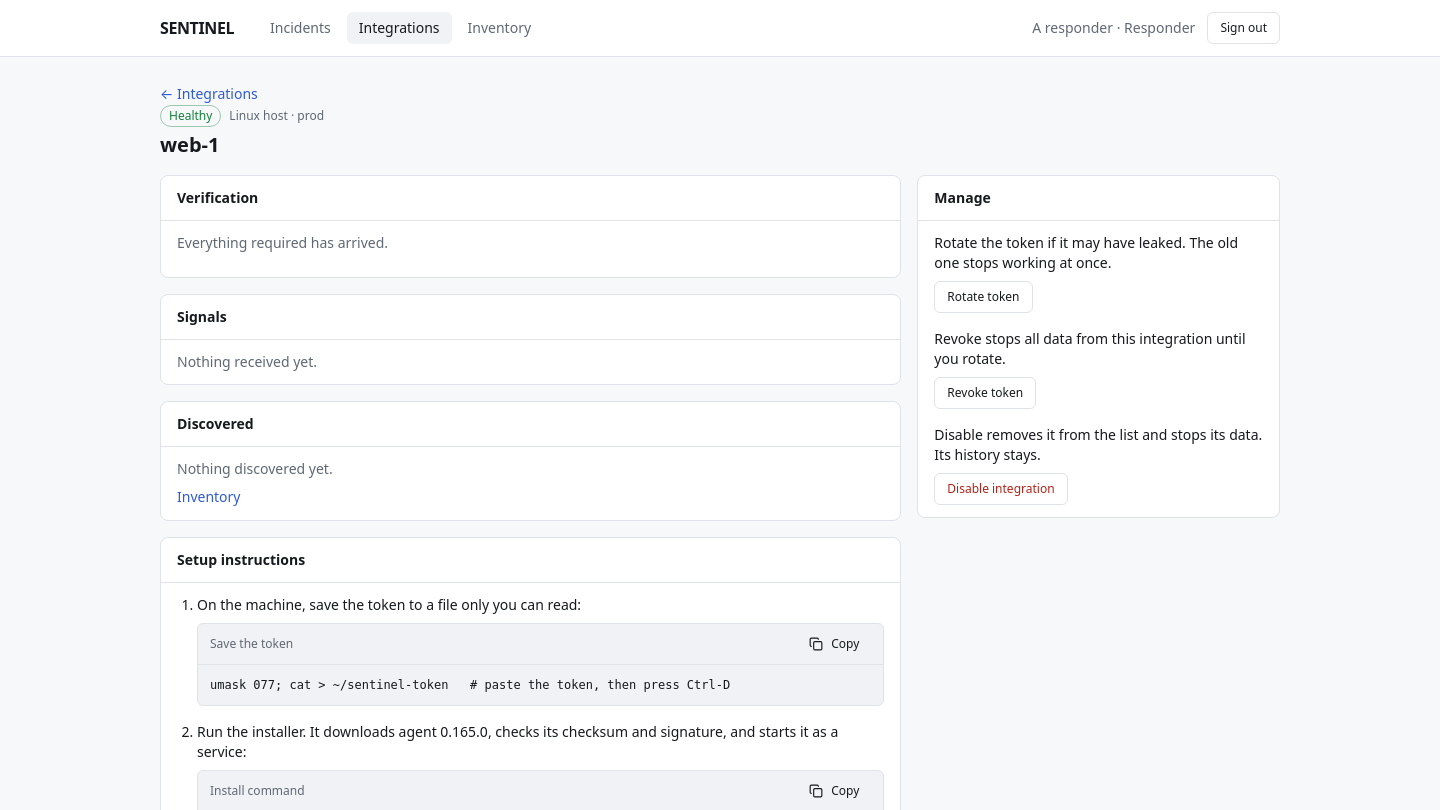
Test: integrations and inventory › rotating a token shows the new one once
Click the button "Rotate token". click: [983, 297]
box: [934, 281, 1032, 313]
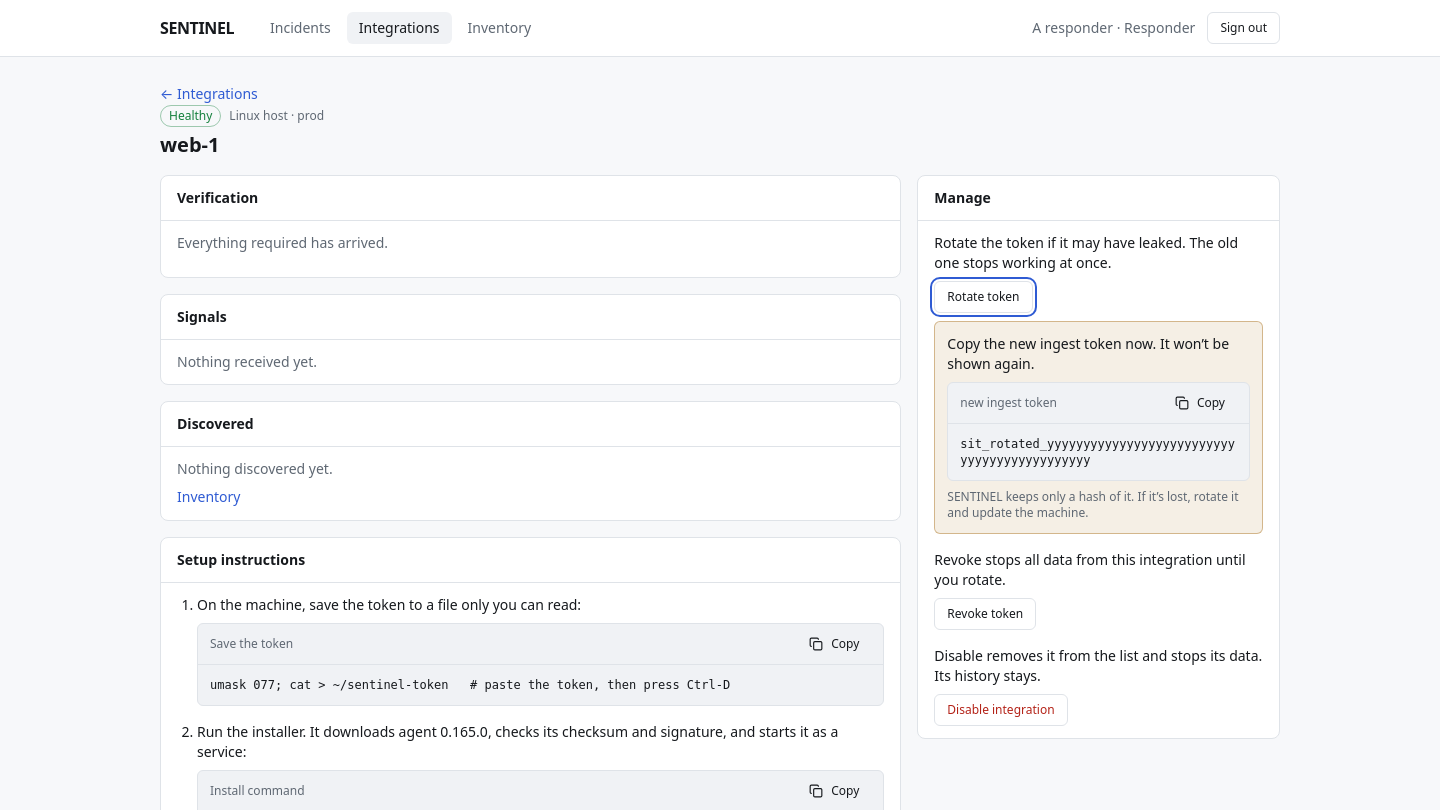
Expected: the text named "new ingest token" shows "sit_rotated_", [960, 437, 1235, 467]
